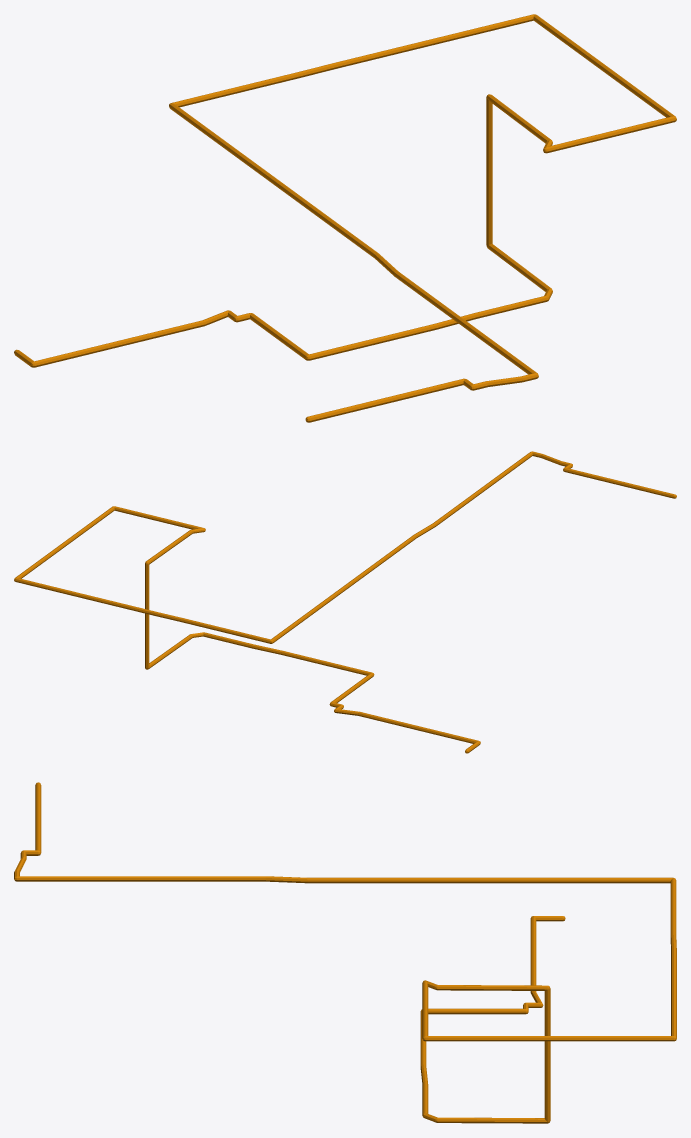
The picture shows the model from 3 angles, top to bottom: view 1: azimuth 30°, elevation 25°; view 2: azimuth 150°, elevation 25°; view 3: azimuth 270°, elevation 25°; orthographic projection. The views are drawn at different scales.
Bounding box in the file's own units: 2071 × 520 × 2266.
